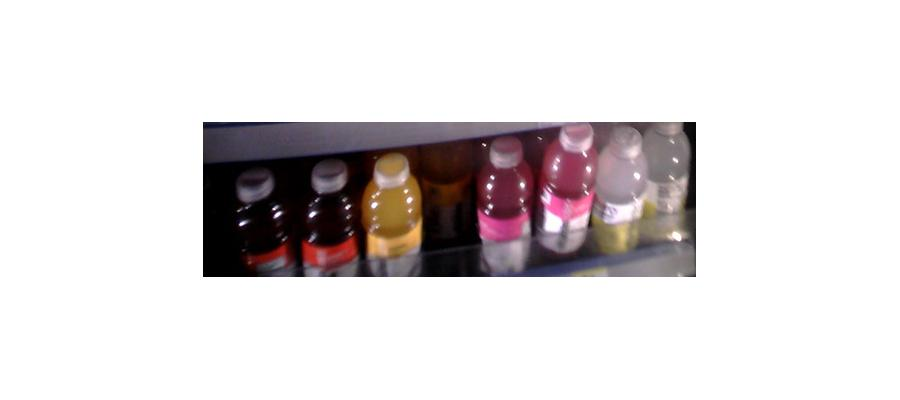bottle: (534, 123, 596, 259), (360, 153, 421, 278), (479, 136, 531, 273), (298, 162, 358, 279), (231, 163, 292, 277), (595, 129, 646, 254), (644, 120, 688, 246)
